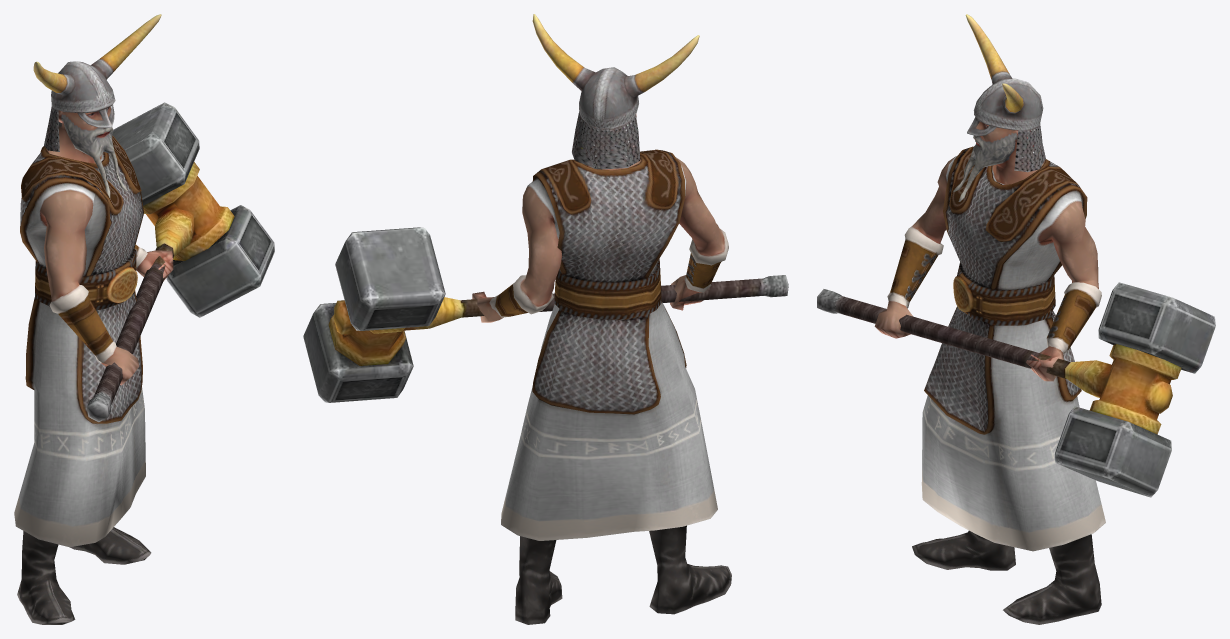
Rendered from 83-hersir.glb.
3 views of the same model, side by side, from view 1: azimuth 30°, elevation 25°; view 2: azimuth 150°, elevation 25°; view 3: azimuth 270°, elevation 25° (orthographic). The views are drawn at different scales.
Size of the model in its own units: 1.55 by 2.48 by 1.65.
Materials: 2 (2 with a texture image).
